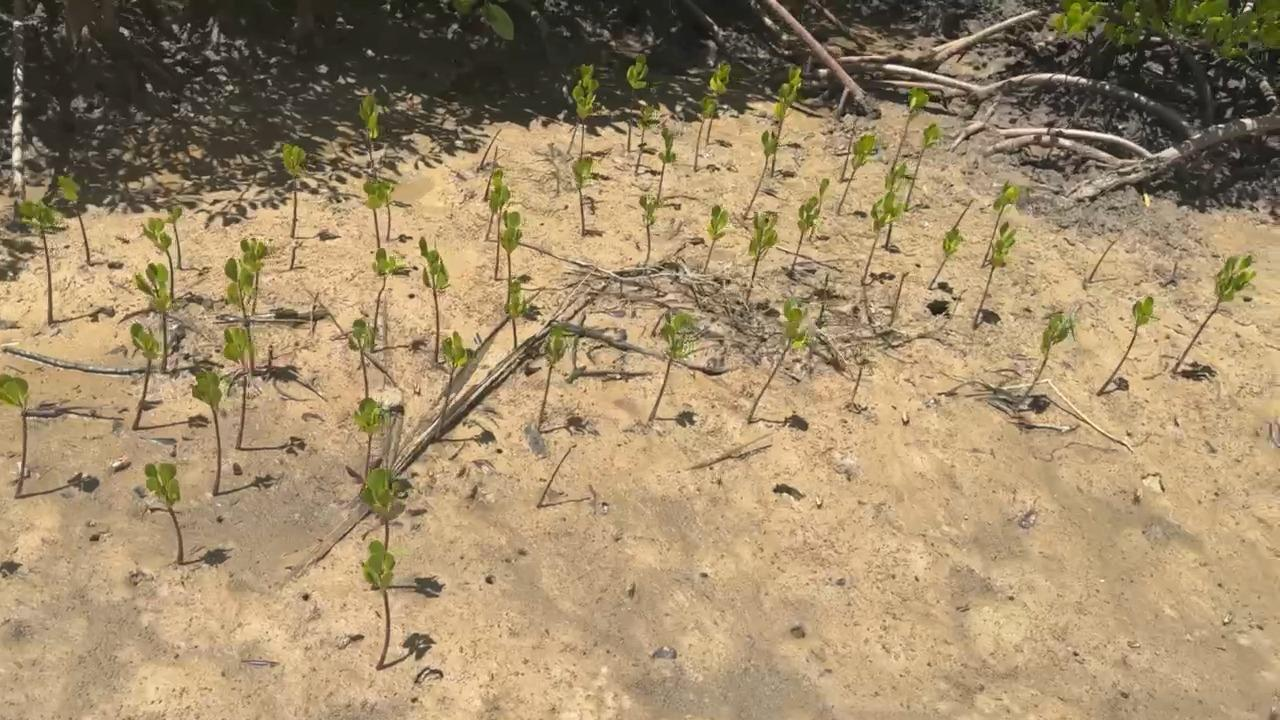Tree: (1172, 255, 1257, 372), (747, 296, 808, 423), (361, 467, 412, 590), (1096, 296, 1154, 396), (649, 310, 692, 420), (973, 221, 1016, 329), (21, 200, 55, 326), (189, 369, 222, 496), (135, 262, 172, 373), (363, 540, 394, 670), (144, 463, 183, 564), (418, 236, 449, 363), (223, 257, 255, 374), (0, 372, 29, 498), (436, 331, 468, 441), (222, 328, 251, 449), (980, 181, 1019, 268), (537, 325, 569, 430), (130, 322, 160, 430), (862, 190, 903, 269), (891, 87, 929, 170), (904, 123, 939, 212), (743, 130, 777, 221), (837, 134, 875, 214), (57, 174, 90, 262), (1033, 312, 1075, 381), (142, 218, 174, 301), (566, 64, 599, 143), (537, 444, 577, 507), (769, 84, 796, 177), (353, 397, 384, 476), (498, 210, 523, 304), (238, 237, 268, 315), (626, 54, 649, 153), (927, 228, 964, 289), (748, 209, 778, 282), (705, 60, 731, 143), (791, 196, 819, 267), (884, 162, 907, 248), (372, 248, 396, 330), (489, 187, 510, 280), (282, 143, 305, 221), (702, 205, 728, 274), (348, 318, 369, 397), (572, 155, 592, 236), (694, 96, 715, 172), (363, 182, 386, 248), (484, 169, 504, 242), (359, 94, 380, 160), (634, 105, 654, 174), (1088, 239, 1118, 283), (657, 127, 676, 196), (808, 178, 829, 239), (575, 90, 595, 154), (839, 117, 858, 183), (505, 281, 523, 347), (638, 194, 658, 253), (375, 181, 394, 240), (165, 208, 182, 269), (774, 65, 802, 101), (479, 127, 502, 169), (482, 145, 498, 199), (817, 274, 829, 328), (953, 199, 973, 228), (309, 291, 320, 333), (288, 239, 303, 269), (896, 272, 909, 301), (265, 344, 274, 367), (855, 366, 863, 391)
